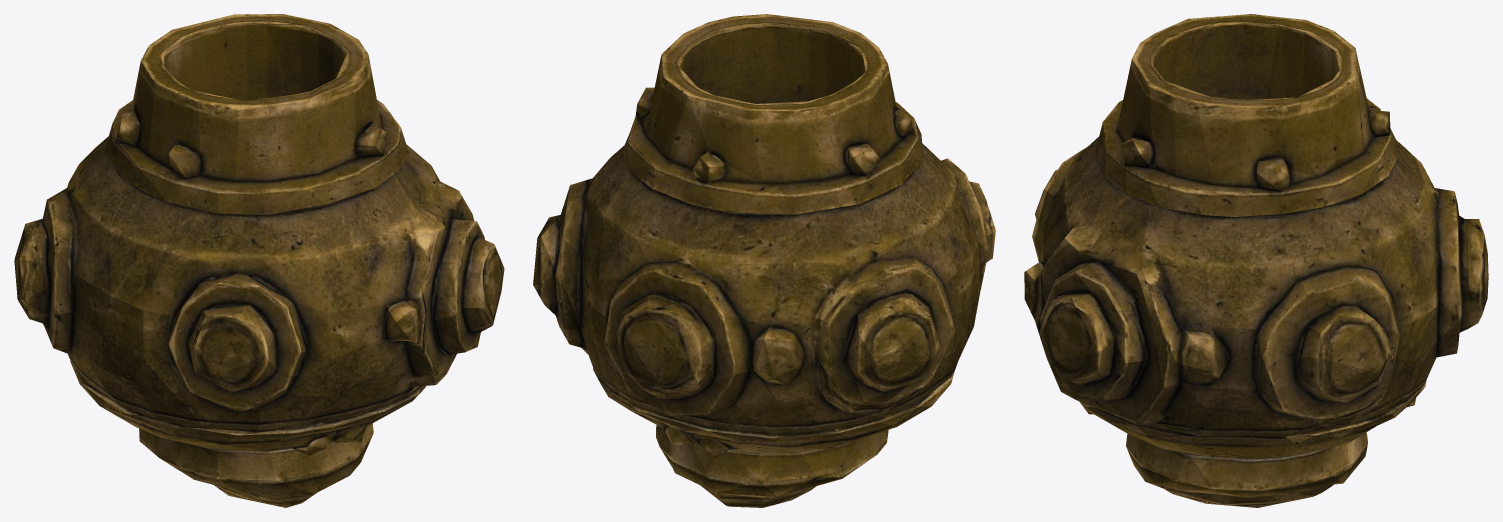
3 views of the same model, side by side, from view 1: azimuth 30°, elevation 25°; view 2: azimuth 150°, elevation 25°; view 3: azimuth 270°, elevation 25° (orthographic). The views are drawn at different scales.
Visible parts, largest first — view 1: geometry_0; view 2: geometry_0; view 3: geometry_0.
Boxes of the visible parts, left/top/right/bottom form: geometry_0: left=14, top=14, right=504, bottom=507; geometry_0: left=533, top=14, right=995, bottom=507; geometry_0: left=1024, top=14, right=1488, bottom=507.
Bounding box in the file's own units: 0.9861 × 1 × 0.9786.
1 material, 1 textured.
